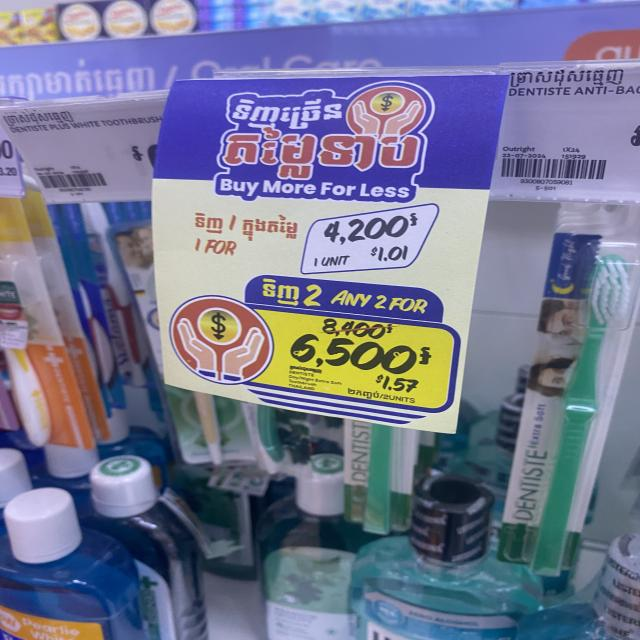101: (372, 372, 421, 396)
503: (227, 212, 240, 233), (191, 235, 203, 252)
515: (561, 147, 583, 153)
560: (501, 151, 546, 159)
596: (558, 153, 588, 161)
631: (298, 282, 330, 310), (370, 291, 390, 315), (381, 392, 392, 401)
743: (323, 211, 407, 247)
772: (533, 185, 558, 192)
801: (284, 329, 422, 375)
840: (319, 317, 388, 340)
849: (517, 178, 575, 187)
893: (260, 276, 303, 306)
97: (367, 244, 411, 262)
Yolov11_80vkh: (217, 125, 420, 184), (222, 93, 345, 130), (503, 66, 625, 91), (239, 212, 299, 244), (1, 107, 79, 127), (192, 209, 230, 235), (206, 309, 230, 337), (344, 386, 380, 401), (414, 346, 435, 367), (127, 141, 144, 163), (378, 95, 396, 107), (408, 210, 419, 228), (385, 320, 395, 333)
